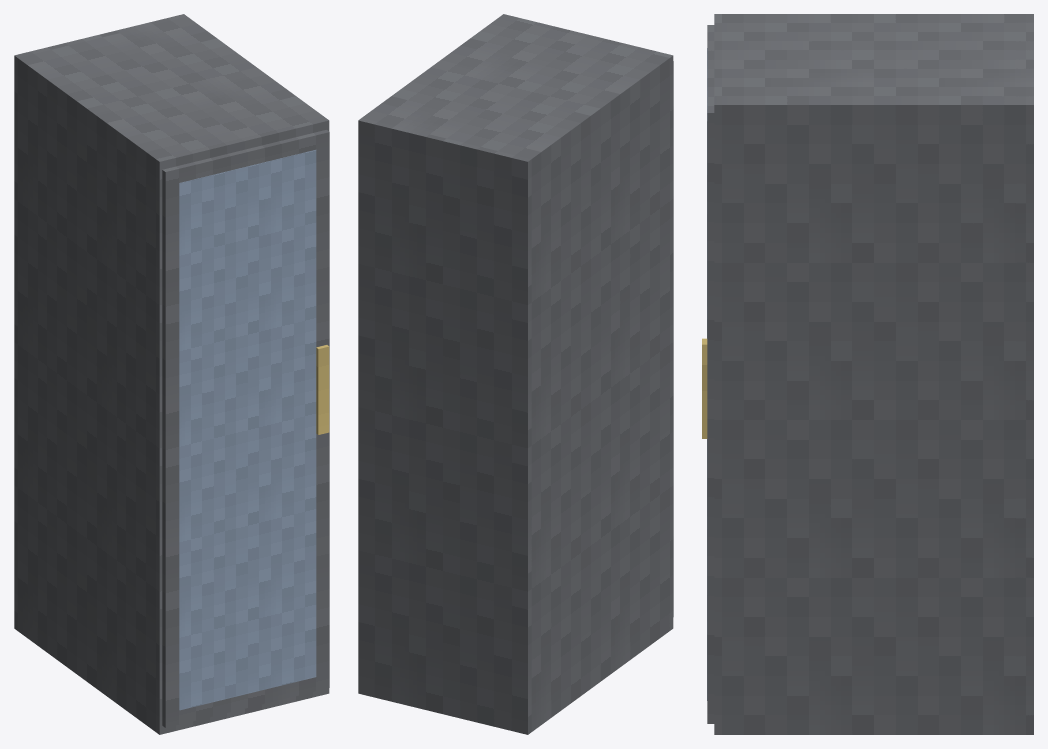
File: server_rack.glb
The picture shows the model from 3 angles, left to right: view 1: azimuth 30°, elevation 25°; view 2: azimuth 150°, elevation 25°; view 3: azimuth 270°, elevation 25°; orthographic projection. The views are drawn at different scales.
Parts seen in each view (by area): view 1: server-rack, door-rack/slate, door-rack/charcoal, door-rack/mustard; view 2: server-rack, door-rack/charcoal; view 3: server-rack, door-rack/charcoal, door-rack/mustard, door-rack/slate.
Part boxes in pixels (x1,y1,x2,y2): server-rack: (14, 14, 329, 734); door-rack/slate: (179, 150, 316, 710); door-rack/charcoal: (162, 130, 329, 727); door-rack/mustard: (316, 345, 329, 434); server-rack: (358, 14, 673, 734); door-rack/charcoal: (673, 61, 673, 616); server-rack: (714, 14, 1033, 734); door-rack/charcoal: (707, 25, 714, 723); door-rack/mustard: (702, 338, 707, 438); door-rack/slate: (707, 48, 707, 700).
Bounding box in the file's own units: 0.62 × 2 × 0.955.
4 materials, 4 textured.
